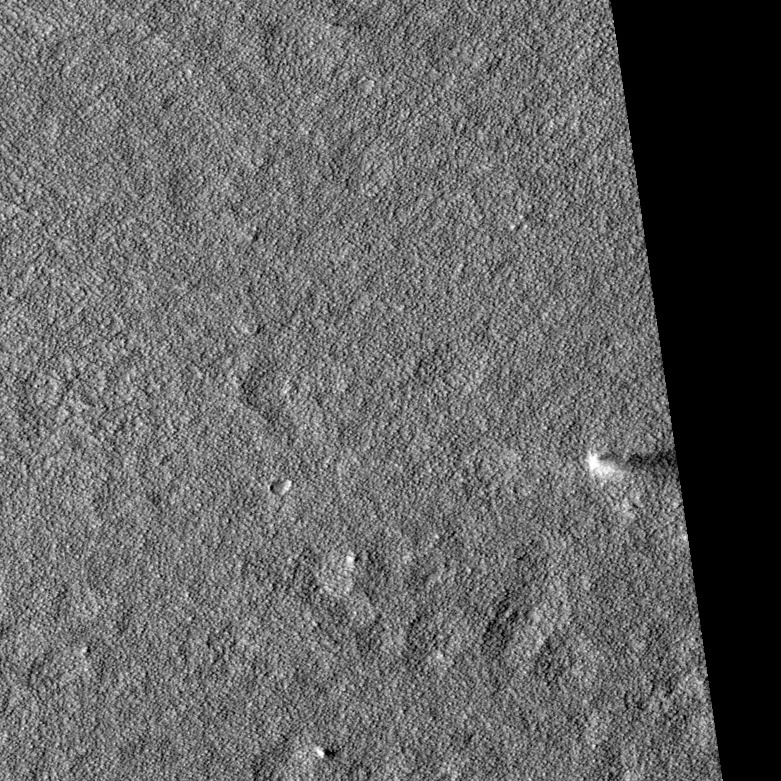dust_devil: (584, 447, 678, 482)
